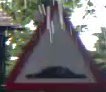Speed Breaker ahead: (4, 0, 105, 91)
